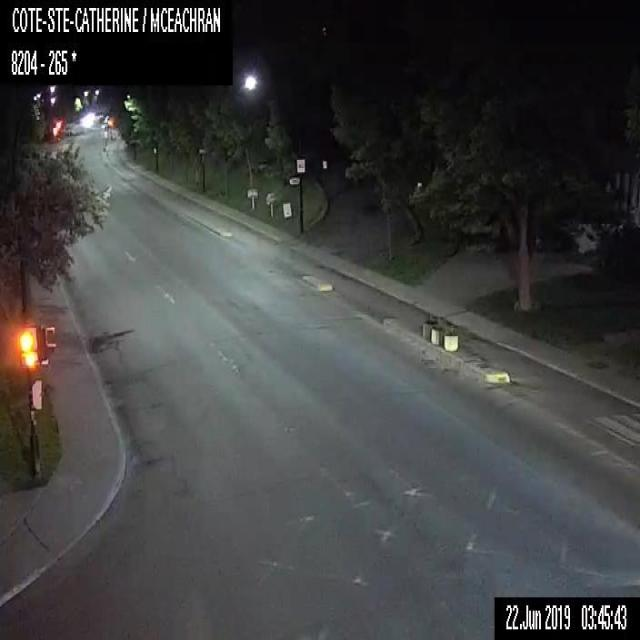vehicle: (76, 111, 95, 129)
